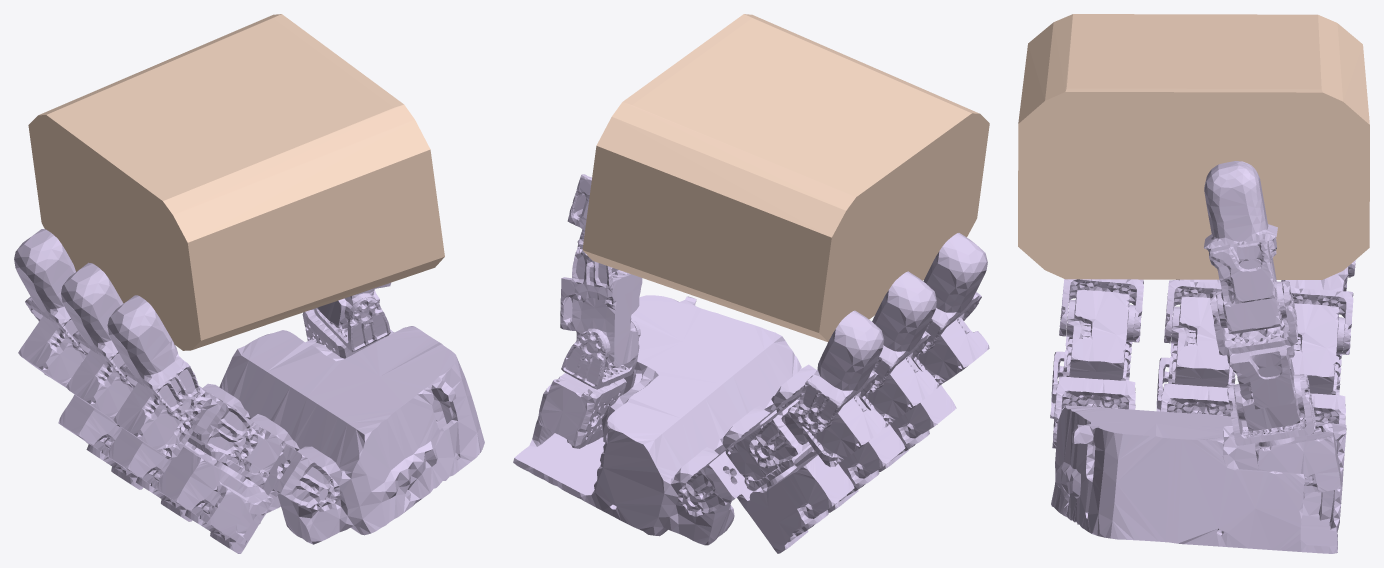
Rendered from b1ad7c3d31bbac-final.glb.
3 views of the same model, side by side, from view 1: azimuth 30°, elevation 25°; view 2: azimuth 150°, elevation 25°; view 3: azimuth 270°, elevation 25° (orthographic). The views are drawn at different scales.
Visible parts, largest first — view 1: world, LEAP_hand; view 2: world, LEAP_hand; view 3: world, LEAP_hand.
Boxes of the visible parts, x1,y1,x2,y2 form: world: (28,14,444,350); LEAP_hand: (14,229,484,553); world: (582,14,989,341); LEAP_hand: (513,174,989,553); world: (1018,14,1369,279); LEAP_hand: (1050,161,1355,553).
Size of the model in its own units: 0.1943 by 0.215 by 0.1517.
